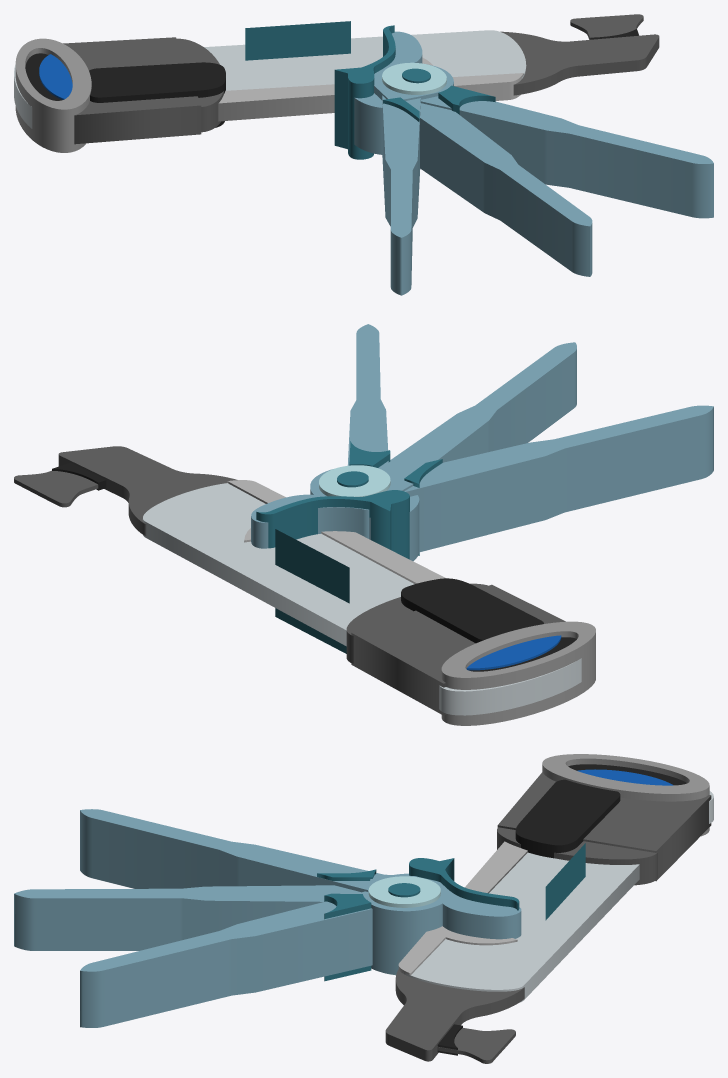
File: emoji_u1f52d.glb
3 views of the same model, one above another, from view 1: azimuth 30°, elevation 25°; view 2: azimuth 150°, elevation 25°; view 3: azimuth 270°, elevation 25° (orthographic). The views are drawn at different scales.
Visible parts, largest first — view 1: emoji_u1f52d; view 2: emoji_u1f52d; view 3: emoji_u1f52d.
Part boxes in pixels (left/top/right/bottom): emoji_u1f52d: left=14, top=14, right=713, bottom=295; emoji_u1f52d: left=14, top=324, right=713, bottom=725; emoji_u1f52d: left=14, top=754, right=713, bottom=1063.
Size of the model in its own units: 0.0325 by 0.0044 by 0.0337.
